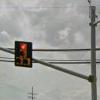Traffic light: (10, 34, 42, 74)
